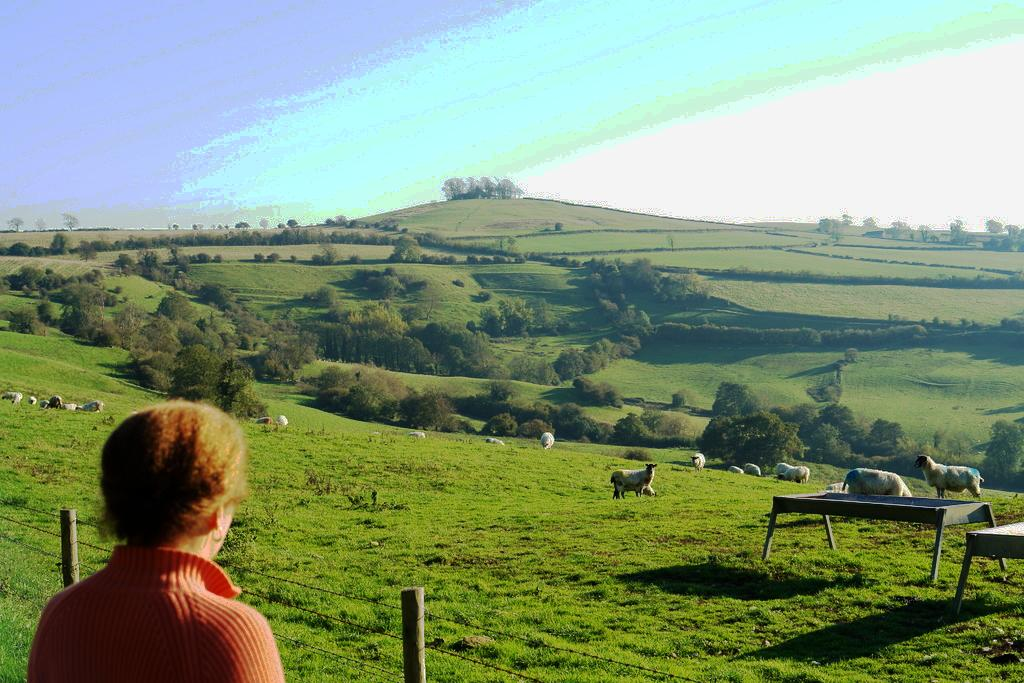Sheep: (916, 454, 986, 502), (607, 458, 657, 500), (834, 471, 910, 495), (780, 468, 810, 490), (689, 446, 710, 477), (742, 460, 764, 484), (0, 392, 24, 414), (726, 455, 742, 485), (83, 399, 107, 419), (24, 389, 39, 412), (539, 430, 556, 450), (49, 393, 64, 414), (481, 436, 505, 444), (254, 417, 268, 426), (278, 415, 286, 423), (412, 432, 424, 437)
